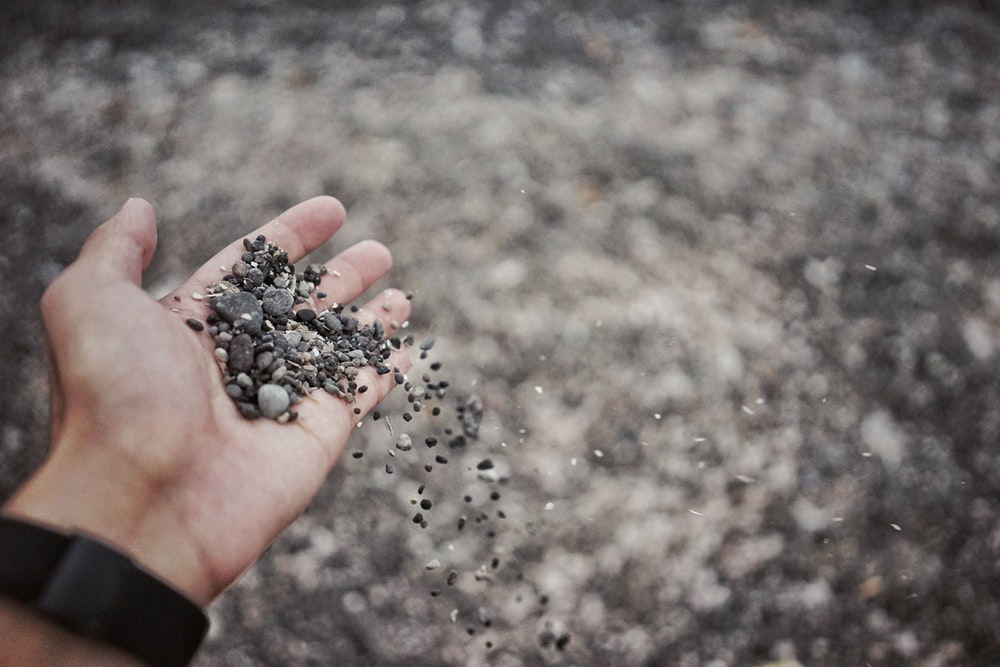palm: (127, 301, 386, 496)
